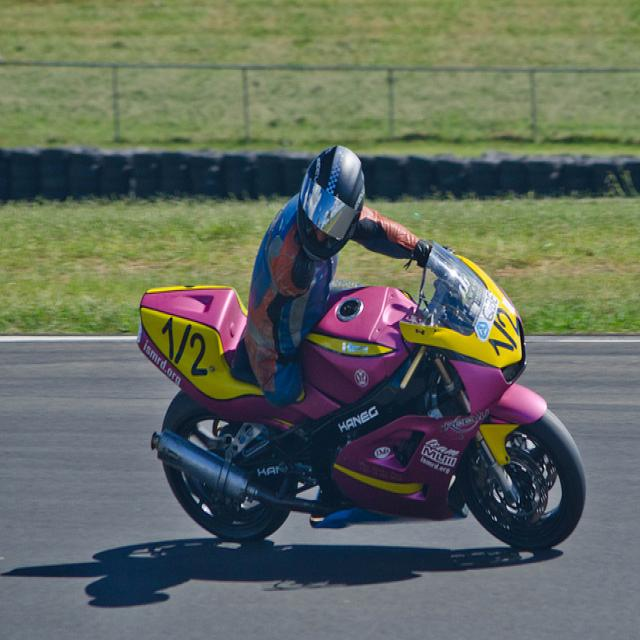motor: (133, 237, 587, 553)
